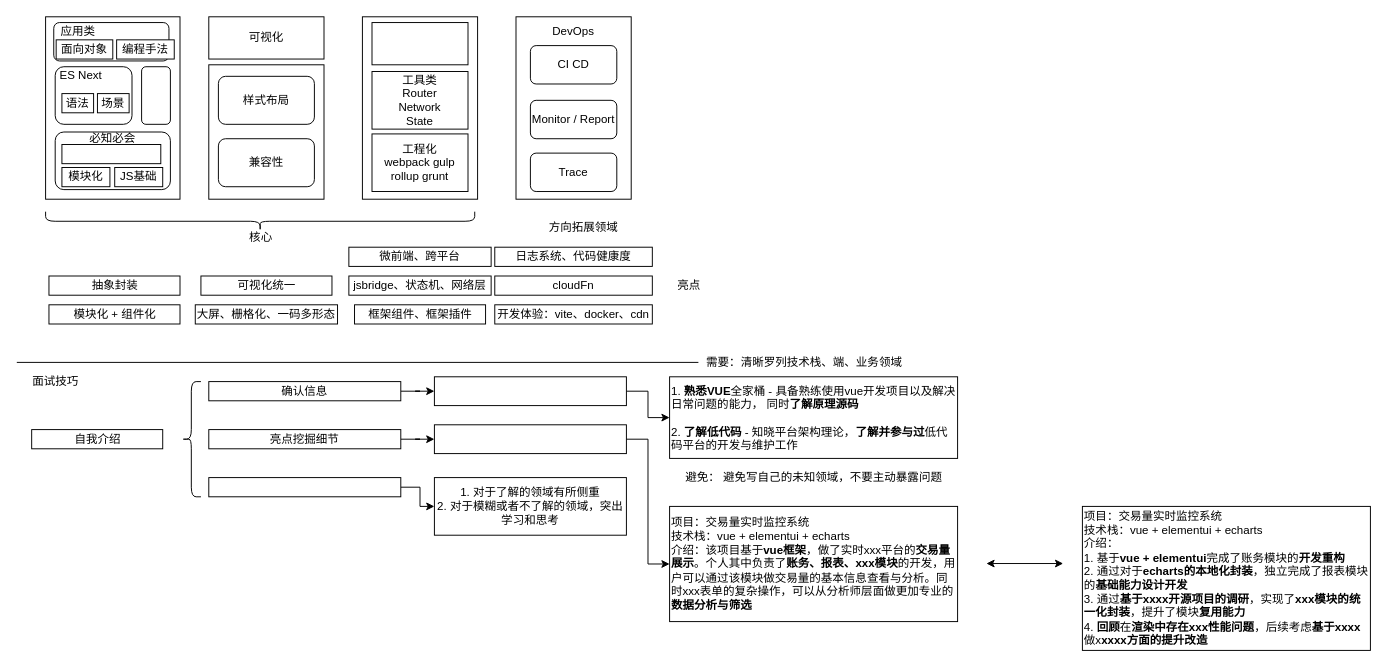
Image size: 1387x667. Some labels were removed from this diagram. The box of each missing label's shape, as (x1, y1, x2, y2) in pixels:
MVVM VUE REACT: (371, 22, 468, 65)
TS: (141, 66, 170, 124)
亮点重点难点，一定要真实熟悉，有针对性: (433, 424, 626, 454)
原型链、继承: (61, 144, 161, 164)
完善对面试者的边界了解: (208, 477, 401, 497)
简历上写的技术一定要熟悉并且正确，并且按照级别深度做相应准备: (433, 376, 626, 406)
